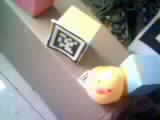duck: (76, 57, 124, 109)
